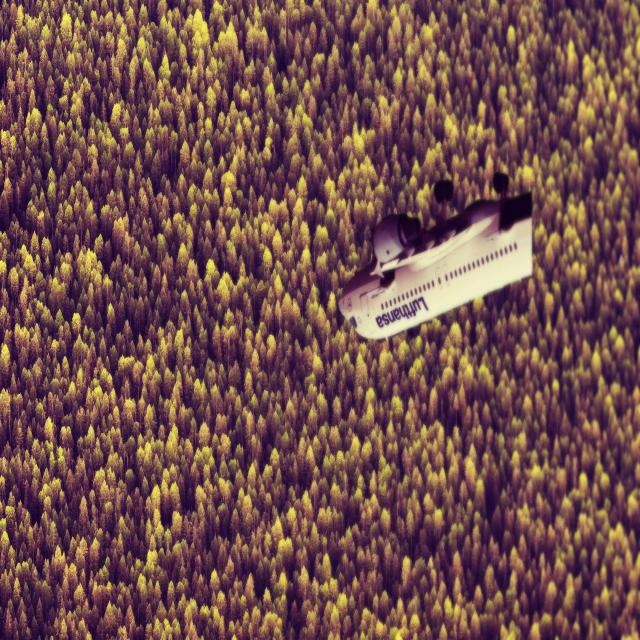airplane: (337, 170, 533, 341)
